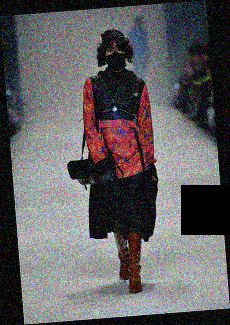with_mask: (105, 43, 127, 70)
